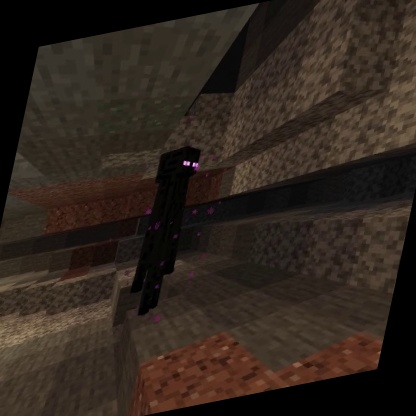enderman: (120, 139, 208, 322)
